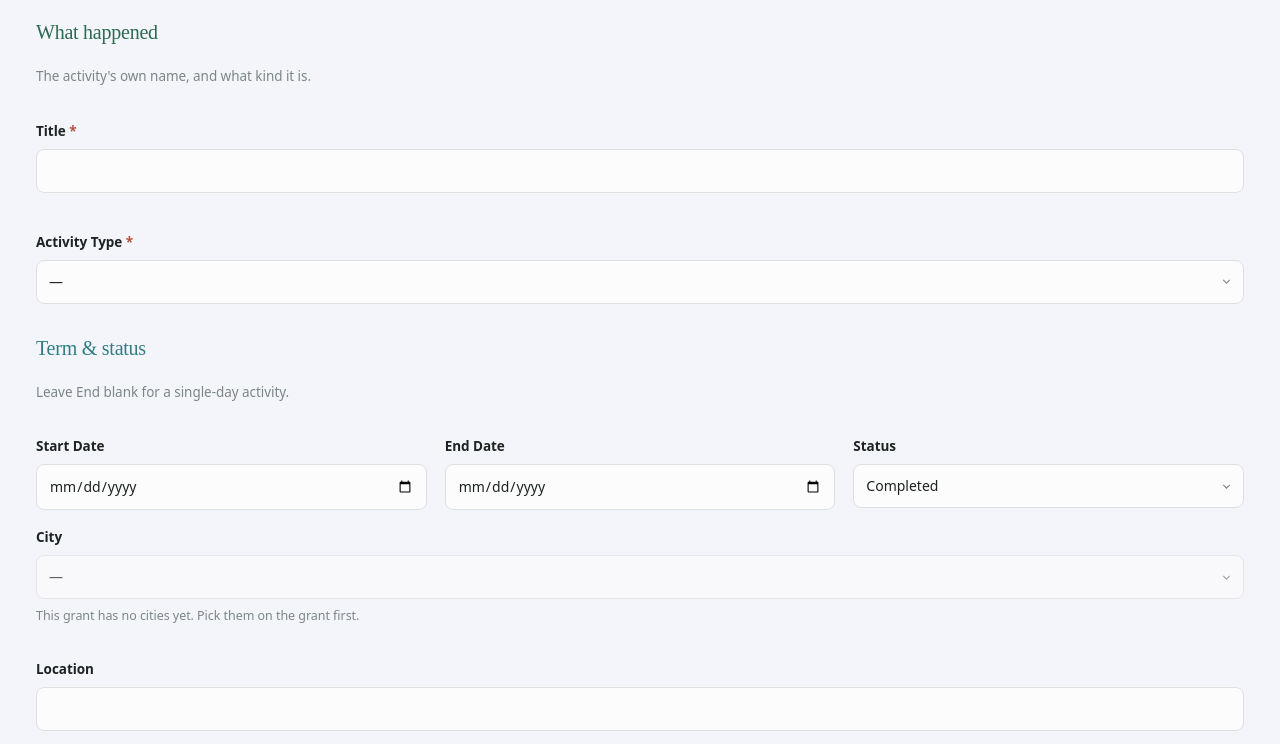
creating an activity › the type cascade shows and hides category fields
Expected: the field labelled "workshop" is not shown
Select "District Trial" in the dropdown labelled "Activity Type *" at (640, 282), box x1=36 y1=260 x2=1244 y2=304
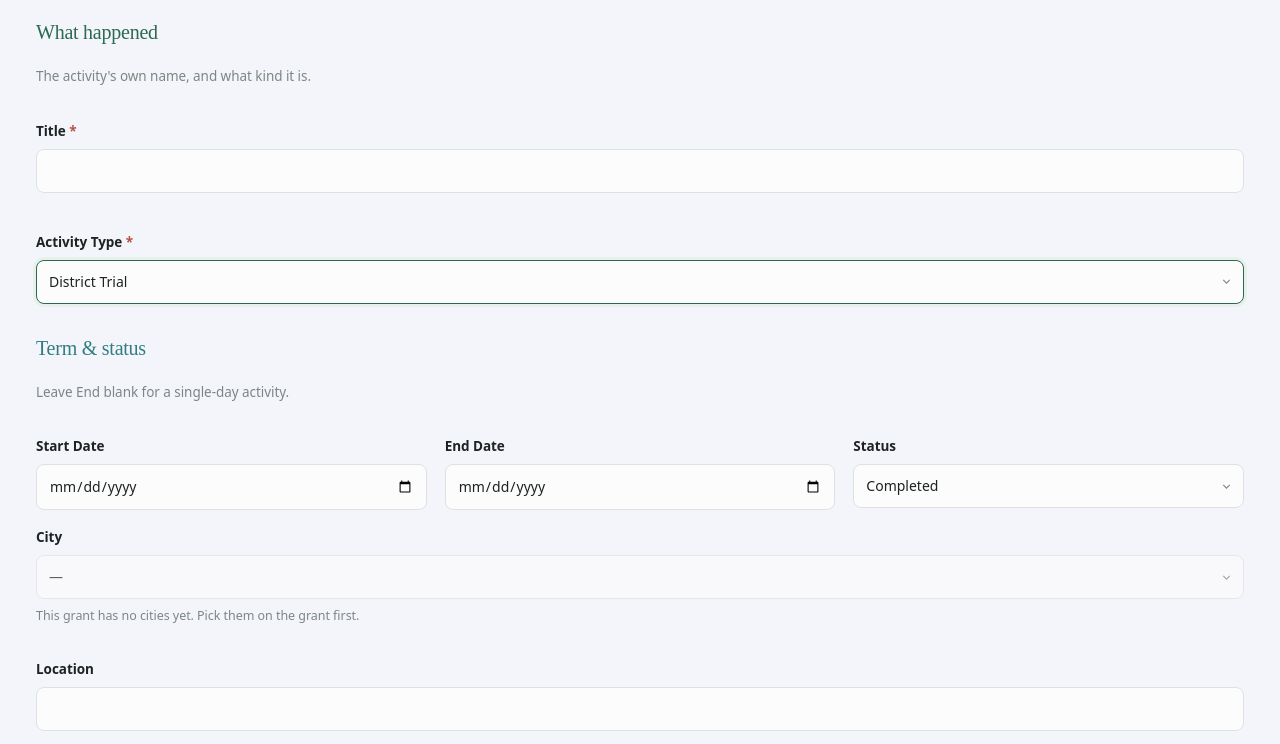
Expected: the field labelled "workshop" is not shown
Select "Career Workshop" in the dropdown labelled "Activity Type *" at (640, 282), box x1=36 y1=260 x2=1244 y2=304
(page scrolled)
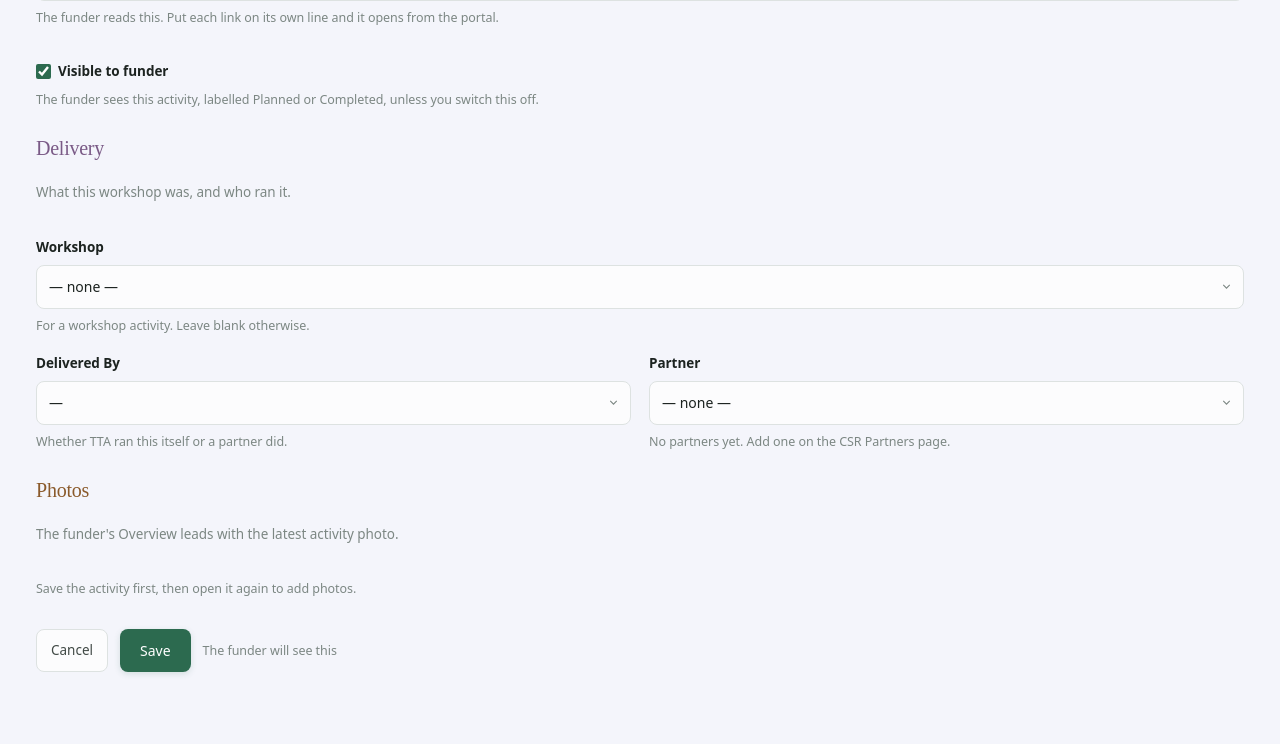
Expected: the dropdown labelled "Workshop" is shown, x1=36 y1=265 x2=1244 y2=309
Expected: the dropdown labelled "Delivered By" is shown, x1=36 y1=381 x2=631 y2=425
Expected: the dropdown labelled "Partner" is shown, x1=649 y1=381 x2=1244 y2=425
